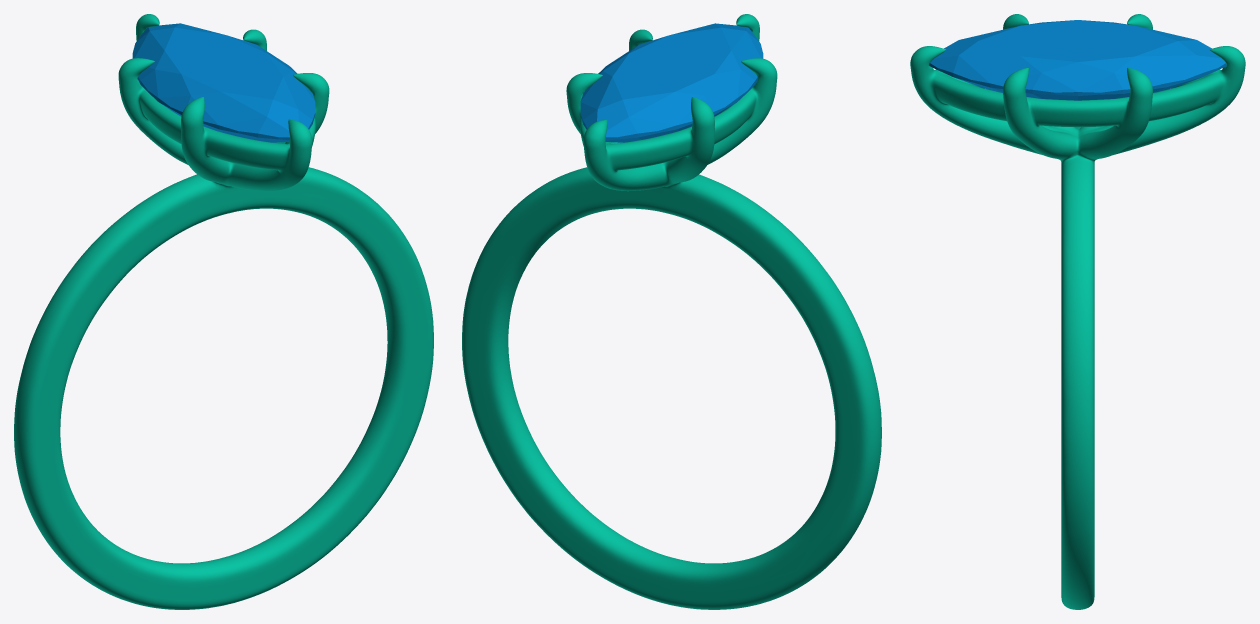
Rendered from BE17652_MQ_200ct_RENDER.glb.
3 views of the same model, side by side, from view 1: azimuth 30°, elevation 25°; view 2: azimuth 150°, elevation 25°; view 3: azimuth 270°, elevation 25° (orthographic).
Parts seen in each view (by area): view 1: Metal 01, CS_Diamond_Marquise; view 2: Metal 01, CS_Diamond_Marquise; view 3: Metal 01, CS_Diamond_Marquise.
Part boxes in pixels (x1=…): Metal 01: x1=14, y1=14, x2=433, y2=609; CS_Diamond_Marquise: x1=132, y1=23, x2=315, y2=142; Metal 01: x1=462, y1=14, x2=881, y2=609; CS_Diamond_Marquise: x1=580, y1=23, x2=763, y2=142; Metal 01: x1=910, y1=14, x2=1245, y2=609; CS_Diamond_Marquise: x1=929, y1=20, x2=1226, y2=100.
Size of the model in its own units: 20.49 by 25.51 by 14.19.
